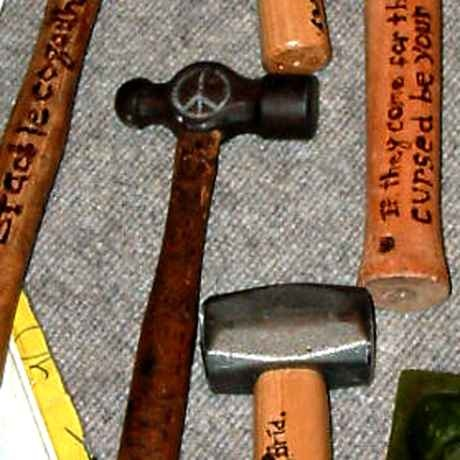hammer: (100, 65, 320, 459), (198, 279, 379, 460)
